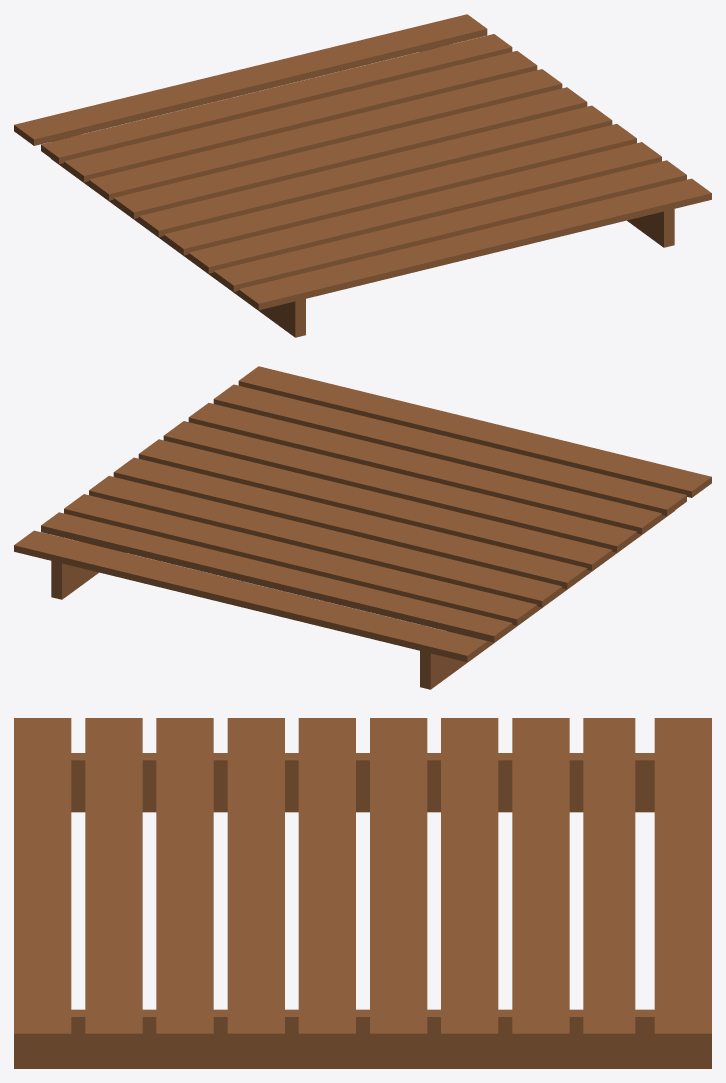
The model's file is No Pole Barrier Dock.fbx.
3 renders of one model, top to bottom at view 1: azimuth 30°, elevation 25°; view 2: azimuth 150°, elevation 25°; view 3: azimuth 270°, elevation 25°, orthographic. The views are drawn at different scales.
Visible parts, largest first — view 1: No Pole Barrier Dock; view 2: No Pole Barrier Dock; view 3: No Pole Barrier Dock.
Boxes of the visible parts, <box> form: No Pole Barrier Dock: <box>14,14,711,337</box>; No Pole Barrier Dock: <box>14,366,711,689</box>; No Pole Barrier Dock: <box>14,718,711,1068</box>.
Bounding box in the file's own units: 367 × 33.18 × 343.
